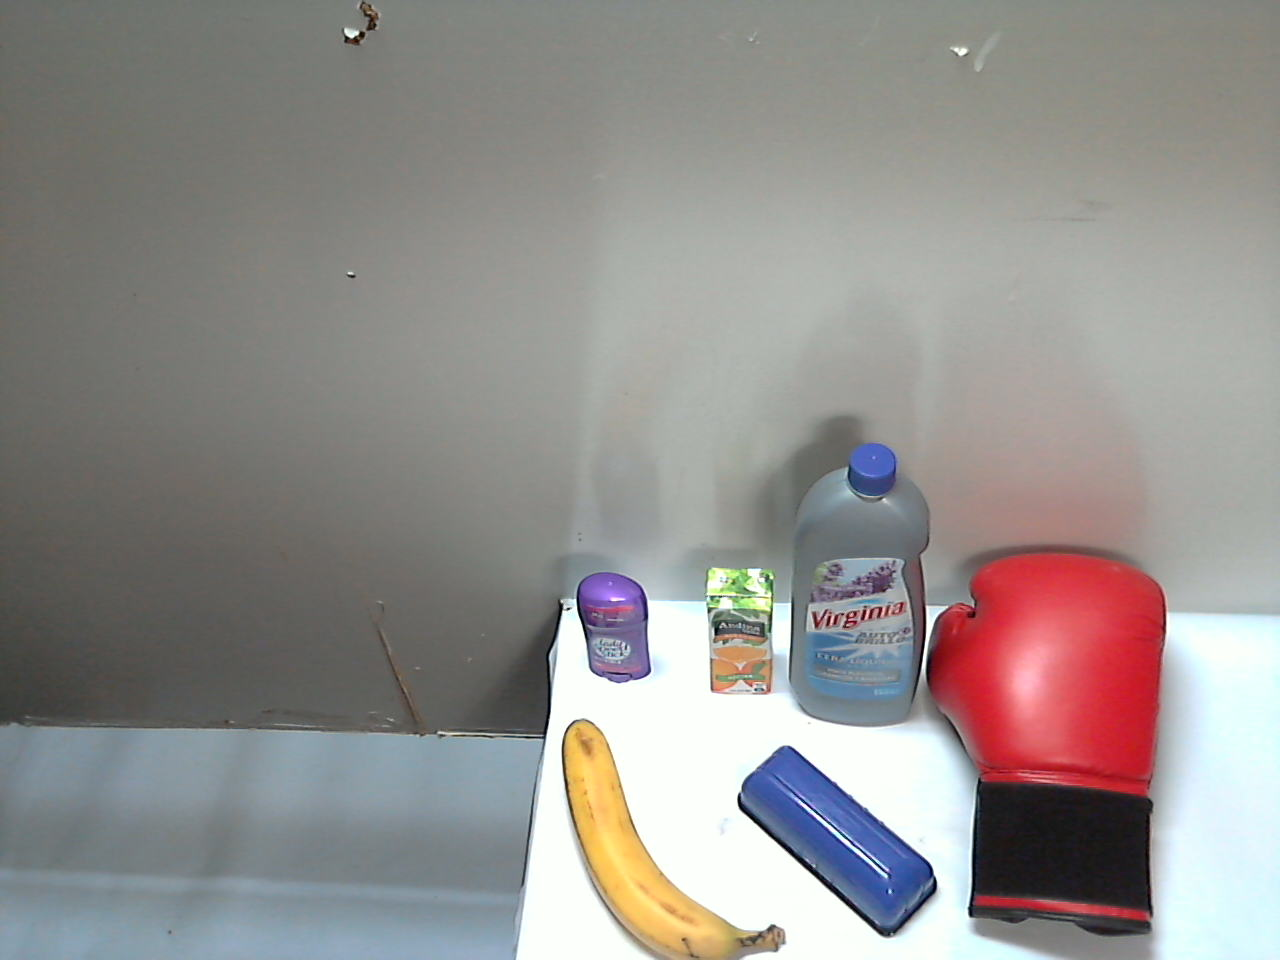cafe: (760, 584, 908, 786)
guante: (910, 625, 1179, 960)
jabon: (757, 797, 904, 894)
lata: (647, 661, 754, 841)
limon: (476, 792, 616, 919)
te: (511, 617, 666, 757)
